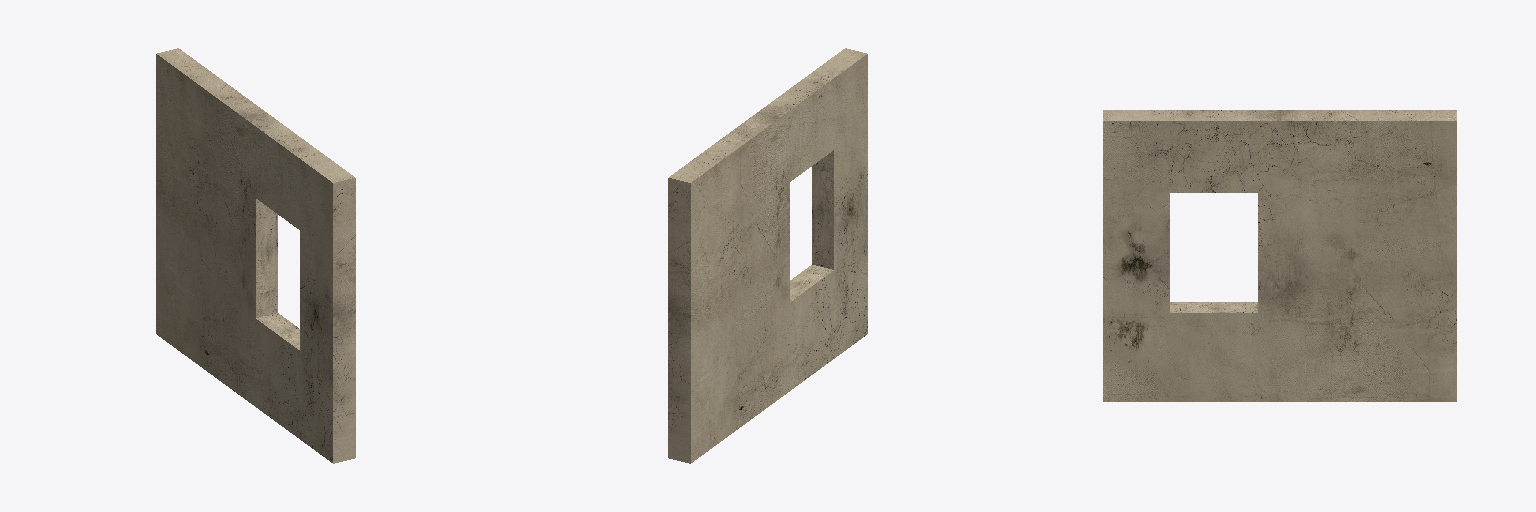
3 renders of one model, left to right at view 1: azimuth 30°, elevation 25°; view 2: azimuth 150°, elevation 25°; view 3: azimuth 270°, elevation 25°, orthographic.
Visible parts, largest first — view 1: Box02; view 2: Box02; view 3: Box02.
Part boxes in pixels (x1,y1,x2,y2): Box02: (156,48,355,463); Box02: (668,48,867,463); Box02: (1103,110,1456,401).
Size of the model in its own units: 0.2933 by 3.5 by 4.
Materials: 1 (1 with a texture image).